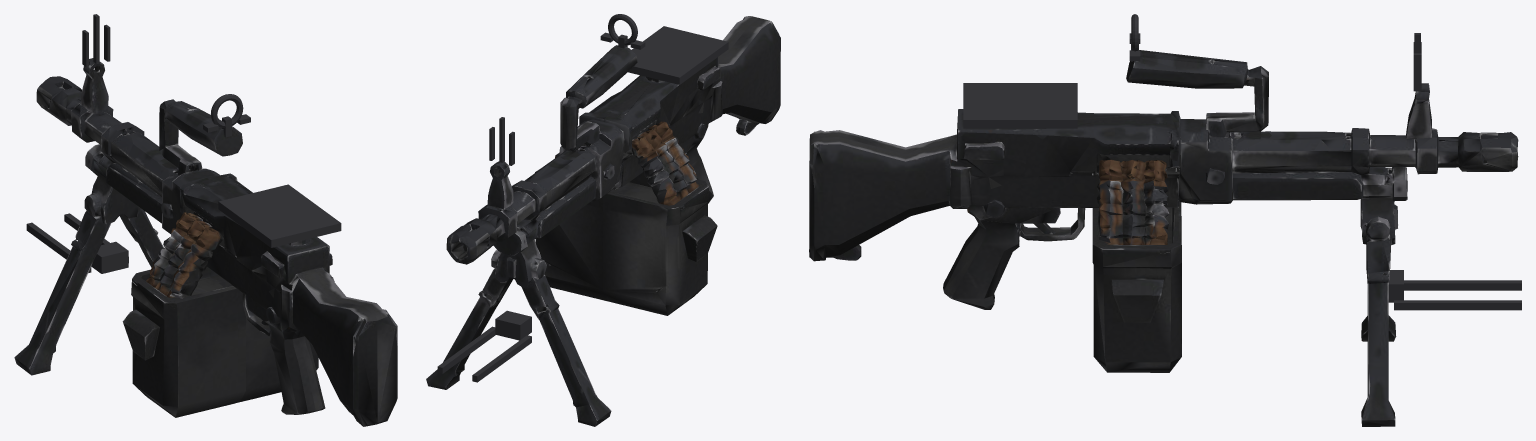
Rendered from lmg.glb.
3 views of the same model, side by side, from view 1: azimuth 30°, elevation 25°; view 2: azimuth 150°, elevation 25°; view 3: azimuth 270°, elevation 25° (orthographic). The views are drawn at different scales.
Parts seen in each view (by area): view 1: lmg_world, feed_cover, bipod_mount, rear_ring, bipod_leg-1; view 2: lmg_world, feed_cover, bipod_mount, bipod_leg-1, bipod_leg1, rear_ring; view 3: lmg_world, feed_cover, bipod_leg1, bipod_leg-1.
Boxes of the visible parts, box(x1,y1,x2,y2) form: lmg_world: box(14, 58, 397, 426); feed_cover: box(218, 184, 341, 247); bipod_mount: box(91, 241, 128, 273); rear_ring: box(211, 94, 243, 127); bipod_leg-1: box(26, 222, 91, 272); lmg_world: box(426, 16, 780, 426); feed_cover: box(628, 26, 728, 84); bipod_mount: box(495, 310, 531, 340); bipod_leg-1: box(472, 335, 531, 382); bipod_leg1: box(437, 326, 495, 373); rear_ring: box(608, 14, 637, 45); lmg_world: box(809, 50, 1518, 426); feed_cover: box(963, 83, 1077, 128); bipod_leg1: box(1394, 300, 1521, 310); bipod_leg-1: box(1404, 280, 1521, 290).
Size of the model in its own units: 0.3436 by 0.5959 by 1.06.
2 materials, 1 textured.
